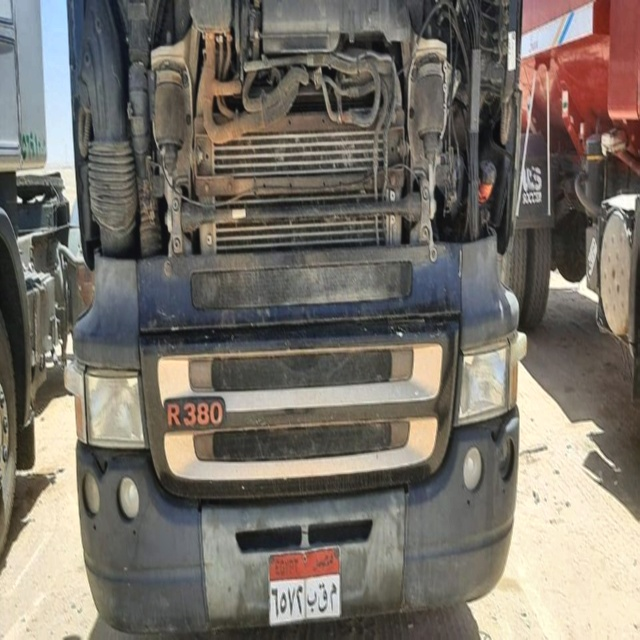License Plate: (268, 545, 342, 631)
